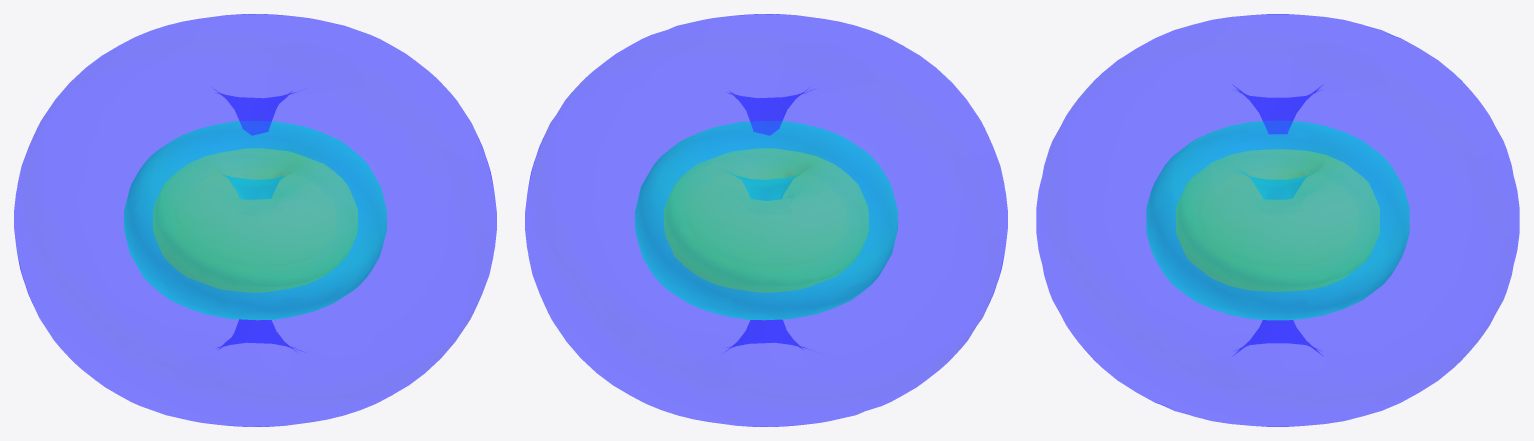
Rendered from orbital_n2_l1_m-1_complex_multilayer.fbx.
3 renders of one model, left to right at view 1: azimuth 30°, elevation 25°; view 2: azimuth 150°, elevation 25°; view 3: azimuth 270°, elevation 25°, orthographic.
Visible parts, largest first — view 1: orbital_n2_l1_m-1_complex_multilayer; view 2: orbital_n2_l1_m-1_complex_multilayer; view 3: orbital_n2_l1_m-1_complex_multilayer.
Boxes of the visible parts, x1,y1,x2,y2 form: orbital_n2_l1_m-1_complex_multilayer: (14, 14, 496, 426); orbital_n2_l1_m-1_complex_multilayer: (525, 14, 1007, 426); orbital_n2_l1_m-1_complex_multilayer: (1036, 14, 1519, 426).
Size of the model in its own units: 1971 by 1404 by 1971.
